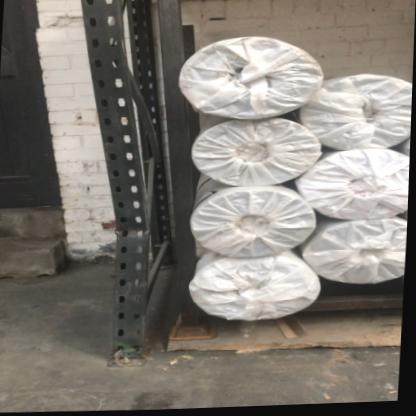vertical_damage: (93, 136, 167, 274)
